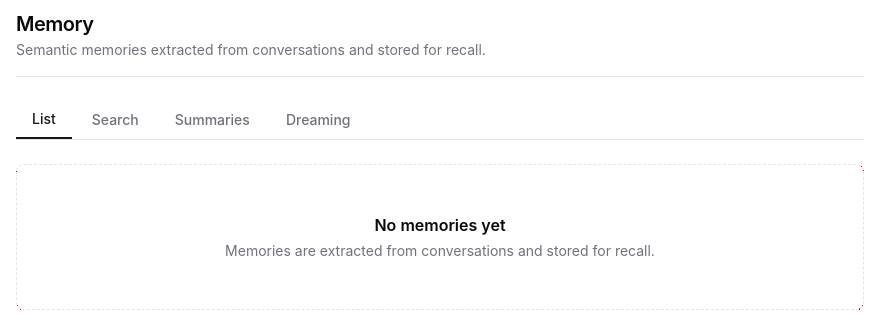
Scenario: MemoryView › fetches daily summaries when the summaries tab is activated
Click the button "summaries".
click(212, 120)  # box [159,101,266,139]
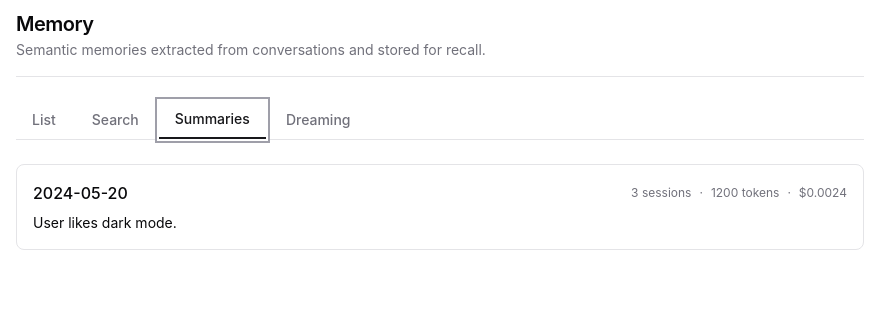
Result: the element with test id "daily-summaries" is shown at [16,164,864,250]
Result: the text "User likes dark mode." is shown at [33,214,177,231]
Result: the heading "2024-05-20" is shown at [33,181,128,205]
